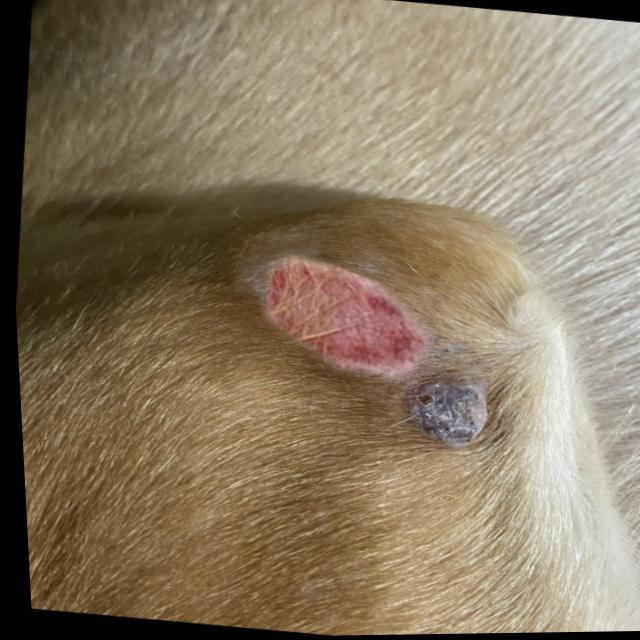ringworm: (209, 237, 456, 394)
